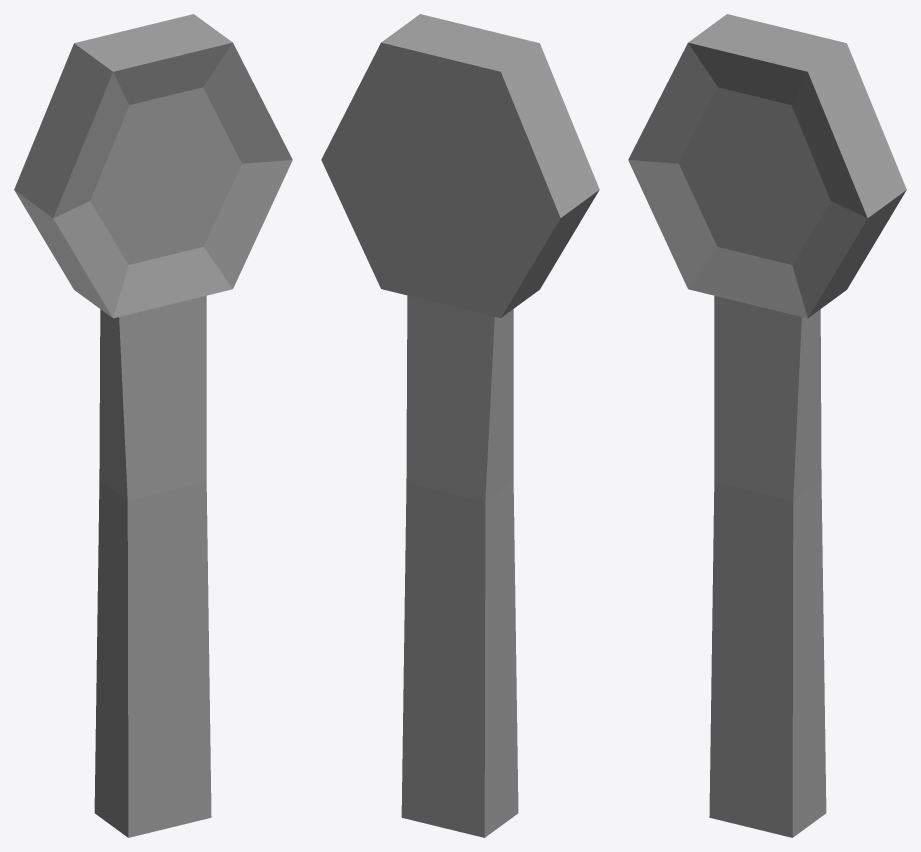
Rendered from Spoon.fbx.
3 views of the same model, side by side, from view 1: azimuth 30°, elevation 25°; view 2: azimuth 150°, elevation 25°; view 3: azimuth 330°, elevation 25° (orthographic).
Visible parts, largest first — view 1: Spoon; view 2: Spoon; view 3: Spoon.
Part boxes in pixels (<box>): Spoon: <box>14,14,292,837</box>; Spoon: <box>321,14,599,837</box>; Spoon: <box>628,14,906,837</box>.
Bounding box in the file's own units: 0.0521 × 0.1606 × 0.0147.
